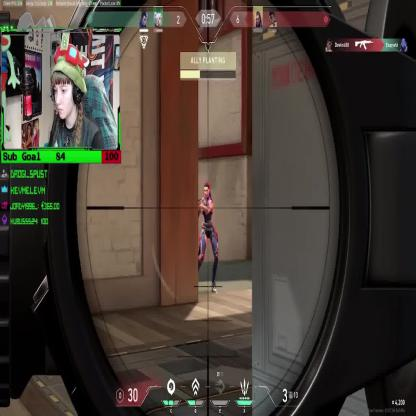enemy: (195, 181, 219, 296)
enemy_head: (202, 184, 212, 200)
